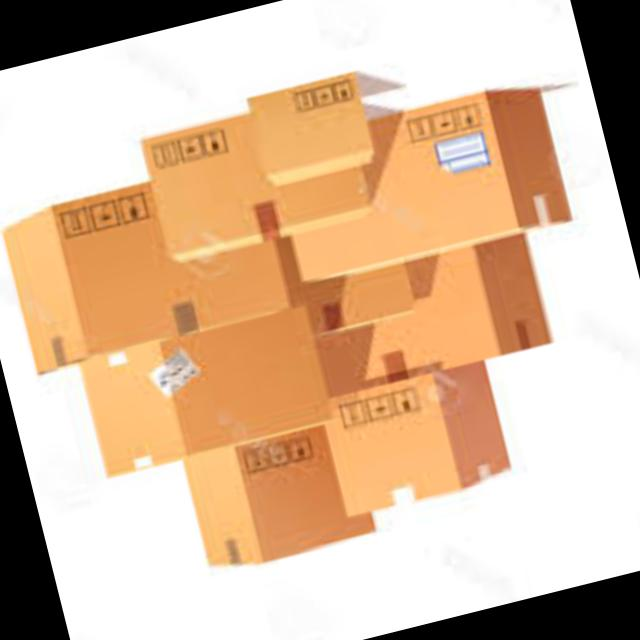cardboard paper: (3, 188, 284, 372), (292, 95, 566, 281), (82, 312, 326, 474), (317, 236, 548, 397), (325, 363, 508, 514), (184, 428, 372, 566), (248, 75, 372, 186)
